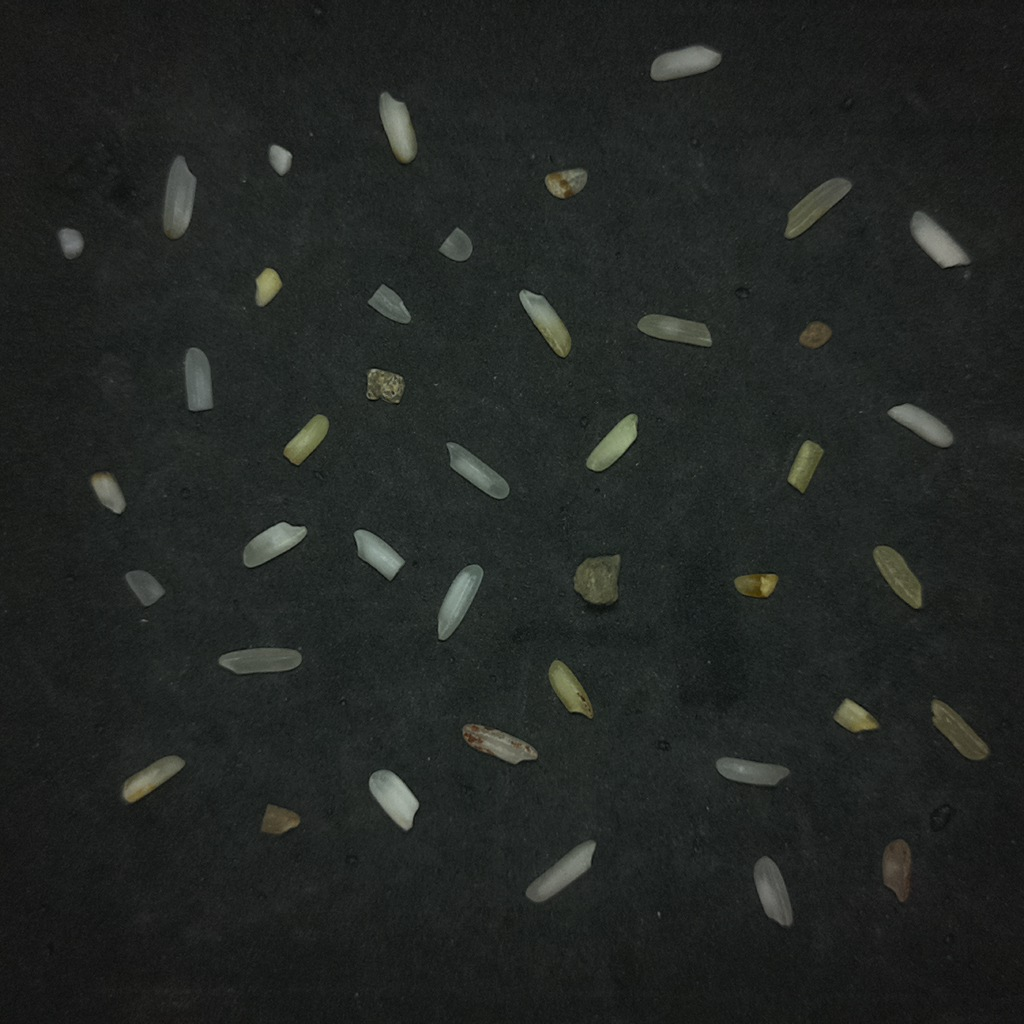broken: (462, 724, 537, 763), (243, 522, 305, 567), (650, 44, 721, 81), (354, 529, 404, 580), (637, 314, 711, 346), (715, 757, 789, 786), (787, 440, 823, 493), (184, 347, 213, 410), (367, 284, 411, 323), (833, 698, 878, 732), (90, 471, 125, 514), (125, 570, 164, 606), (260, 804, 300, 835), (438, 227, 472, 261), (57, 228, 83, 259), (268, 144, 292, 175)
chalky: (526, 840, 595, 902), (437, 564, 484, 641), (910, 211, 970, 268), (369, 769, 419, 830), (887, 403, 953, 447), (379, 92, 417, 164)
damaged: (545, 169, 587, 198)
discolored: (784, 177, 851, 238), (931, 699, 989, 760), (519, 289, 571, 357), (873, 545, 922, 609), (586, 413, 637, 471), (122, 755, 184, 802), (548, 659, 593, 718), (283, 415, 328, 465), (733, 574, 777, 598), (255, 267, 281, 307)
foreign: (574, 554, 620, 605), (366, 368, 403, 404), (799, 321, 831, 349)
red: (882, 839, 911, 902)
whole: (447, 442, 509, 499), (753, 857, 793, 926), (163, 155, 195, 239), (218, 647, 301, 674)
